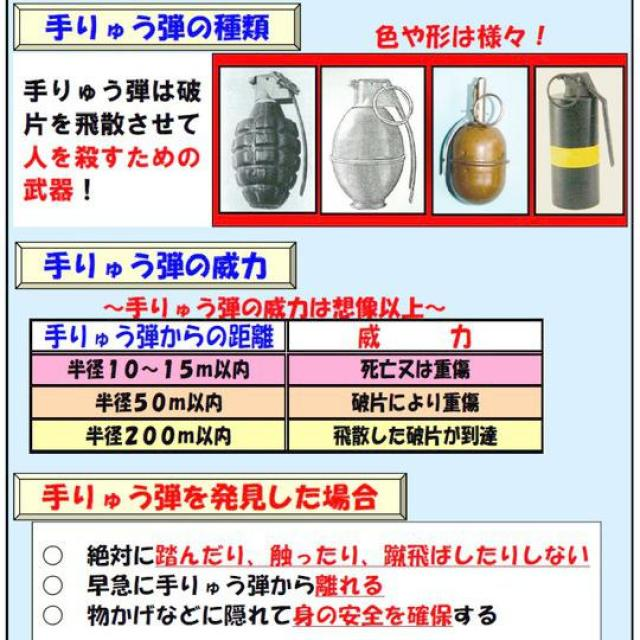grenade: (332, 78, 419, 213), (231, 72, 313, 212), (547, 72, 620, 211), (442, 78, 512, 207)
